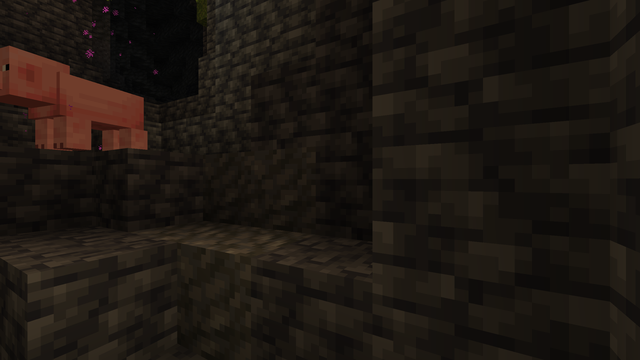cochons: (34, 67, 144, 154)
